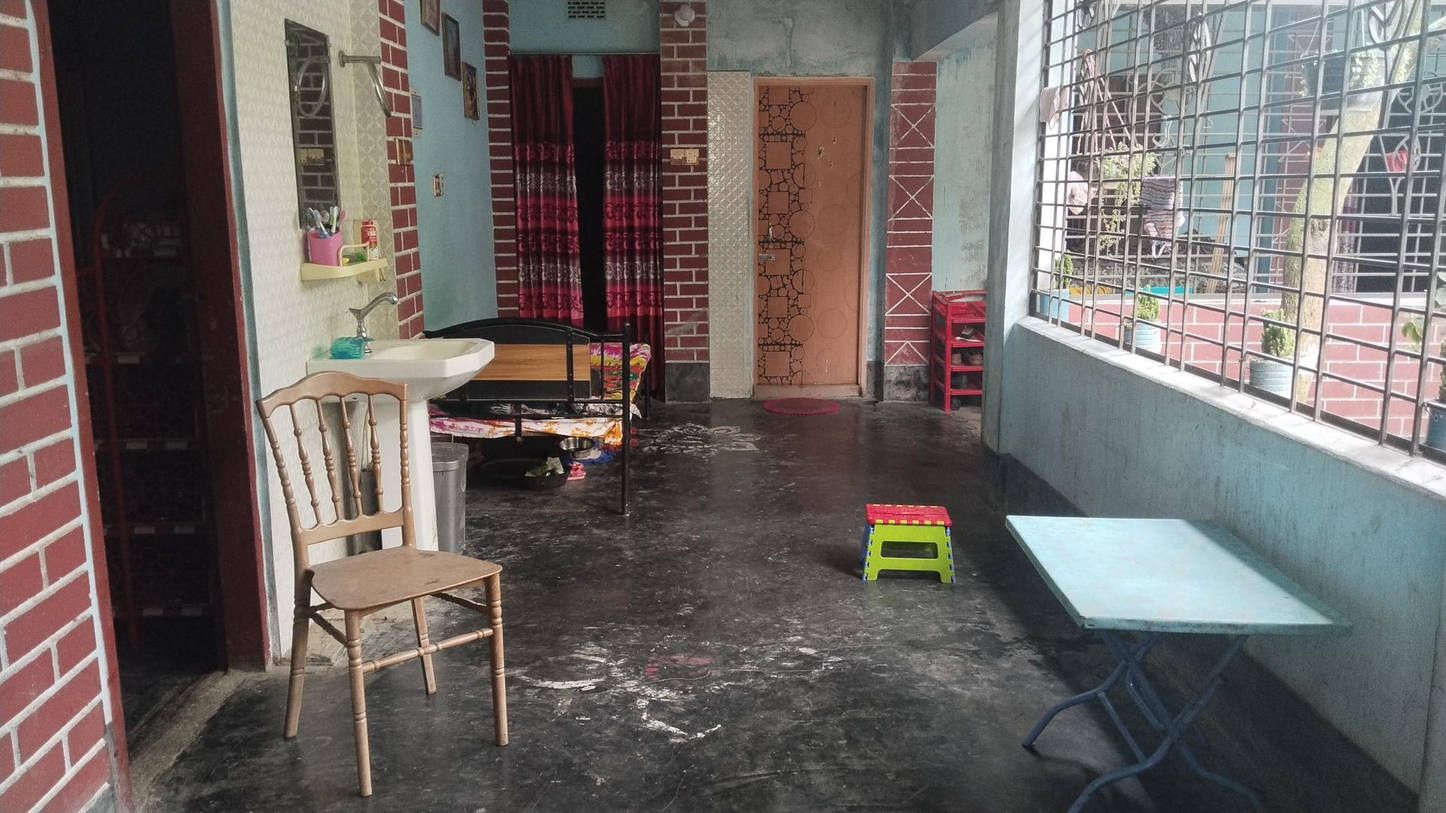Chair: (263, 364, 508, 768)
Door: (748, 76, 862, 392)
Stool: (861, 496, 952, 578)
Table: (1006, 510, 1352, 791)
